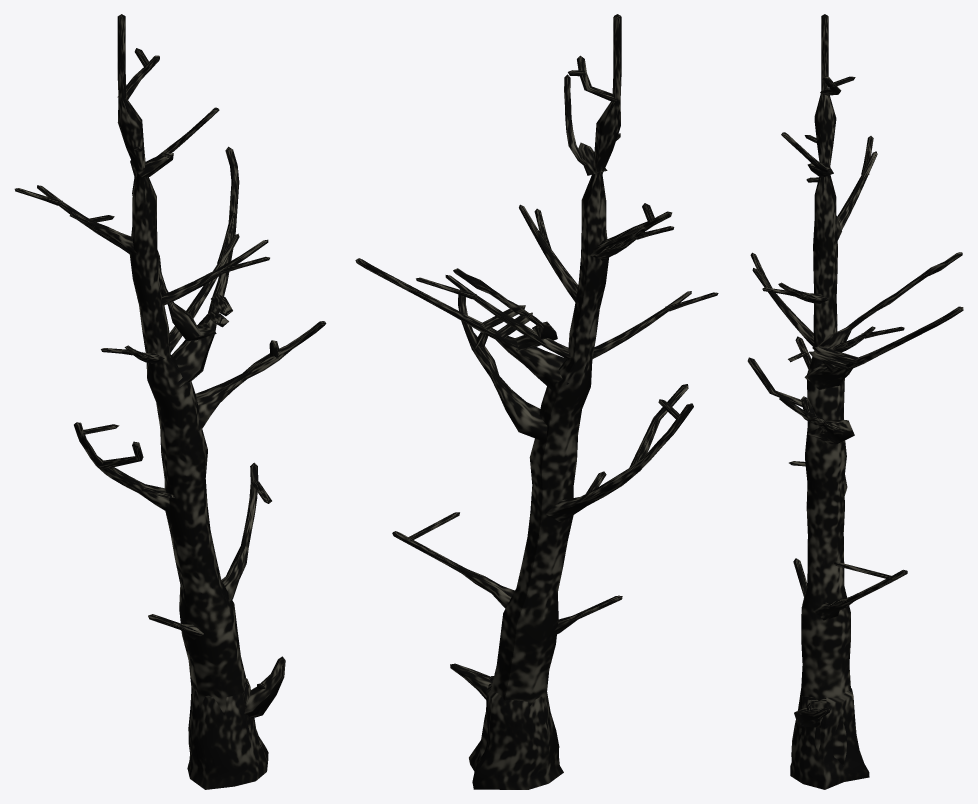
Rendered from VerTreeDead02.glb.
The picture shows the model from 3 angles, left to right: view 1: azimuth 30°, elevation 25°; view 2: azimuth 150°, elevation 25°; view 3: azimuth 270°, elevation 25°; orthographic projection. The views are drawn at different scales.
Parts seen in each view (by area): view 1: VerTreeDead02_limbs; view 2: VerTreeDead02_limbs; view 3: VerTreeDead02_limbs.
Part boxes in pixels (x1,y1,x2,y2): VerTreeDead02_limbs: [14, 14, 326, 789]; VerTreeDead02_limbs: [355, 14, 718, 789]; VerTreeDead02_limbs: [747, 14, 963, 789].
Bounding box in the file's own units: 3.46 × 9.67 × 2.66.
1 material, 1 textured.
